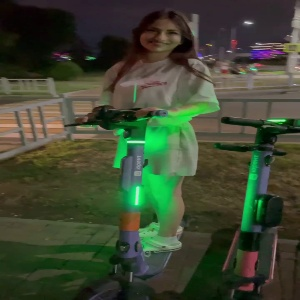human on a scooter: (59, 8, 220, 300)
